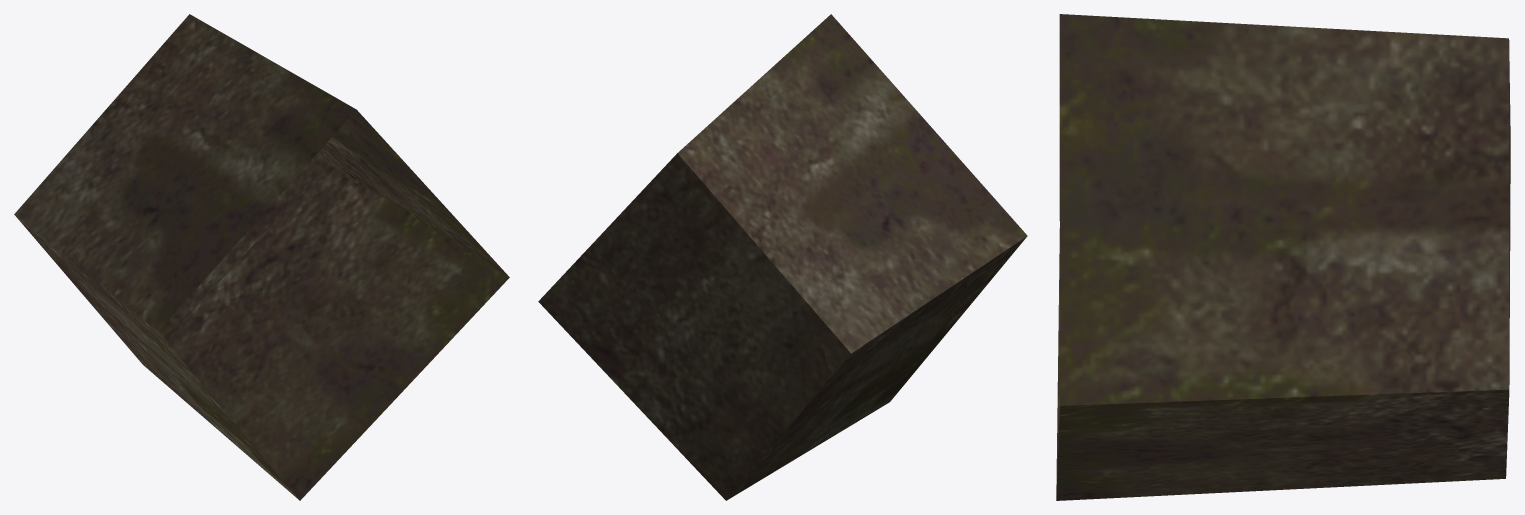
The model's file is TI_IronBar_11.fbx.
3 renders of one model, left to right at view 1: azimuth 30°, elevation 25°; view 2: azimuth 150°, elevation 25°; view 3: azimuth 270°, elevation 25°, orthographic. The views are drawn at different scales.
Visible parts, largest first — view 1: TI_IronBar_11; view 2: TI_IronBar_11; view 3: TI_IronBar_11.
Boxes of the visible parts, left/top/right/bottom form: TI_IronBar_11: left=14, top=14, right=509, bottom=500; TI_IronBar_11: left=538, top=14, right=1027, bottom=500; TI_IronBar_11: left=1056, top=14, right=1510, bottom=500.
Bounding box in the file's own units: 0.139 × 0.1424 × 0.1114.
